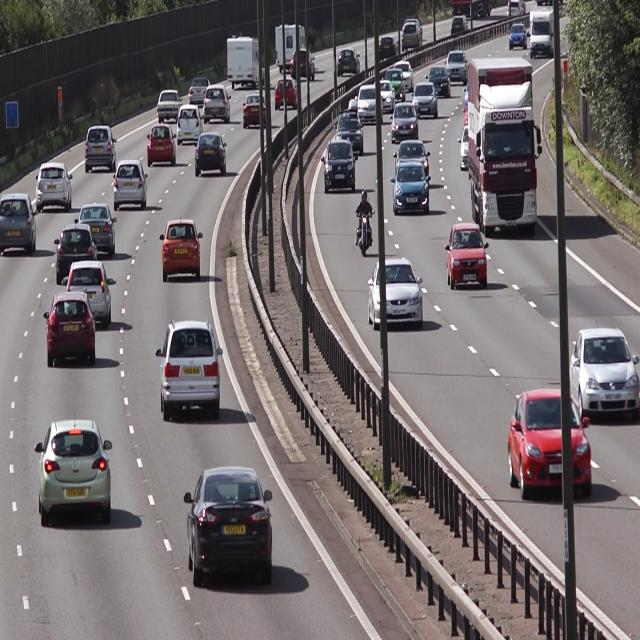Car: (468, 57, 543, 237), (180, 464, 274, 594), (506, 389, 596, 499), (32, 419, 116, 524), (155, 316, 224, 422), (569, 325, 640, 418), (367, 256, 425, 331), (42, 296, 97, 364), (64, 260, 117, 328), (158, 220, 205, 286), (446, 222, 487, 290), (53, 228, 99, 288), (75, 200, 119, 259), (0, 192, 37, 256), (227, 34, 268, 90), (390, 160, 430, 216), (36, 159, 74, 216), (112, 158, 150, 214), (322, 139, 356, 194), (84, 125, 118, 174), (338, 98, 366, 156), (146, 123, 178, 170), (195, 134, 228, 178), (177, 104, 206, 147), (391, 104, 421, 145), (358, 85, 384, 128), (414, 81, 441, 121), (203, 87, 233, 121), (157, 88, 186, 123), (242, 94, 268, 131), (275, 77, 300, 114), (189, 74, 210, 109)
